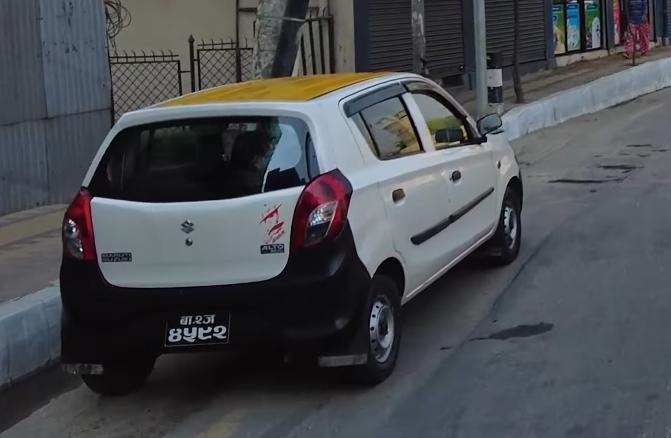taxi: (51, 61, 535, 401)
